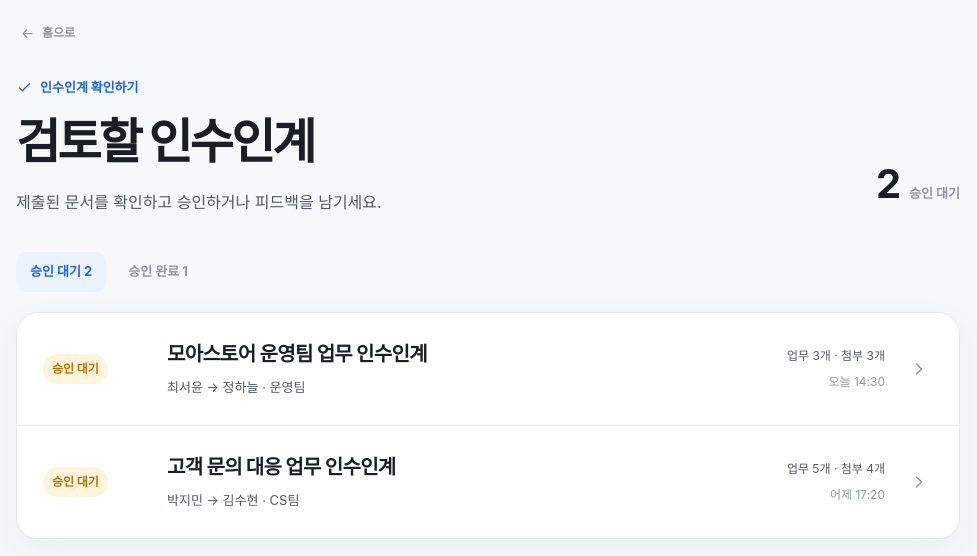
Test: ReviewInboxPage › opens on the pending tab and counts each status from the loaded data
Expected: the heading "검토할 인수인계" is shown, [16,112,314,171]
Expected: the text "제출된 문서를 확인하고 승인하거나 피드백을 남기세요." is shown, [16,190,382,214]
Step 1. Click the button "승인 완료 1" → click(158, 272), box [114,252,202,292]
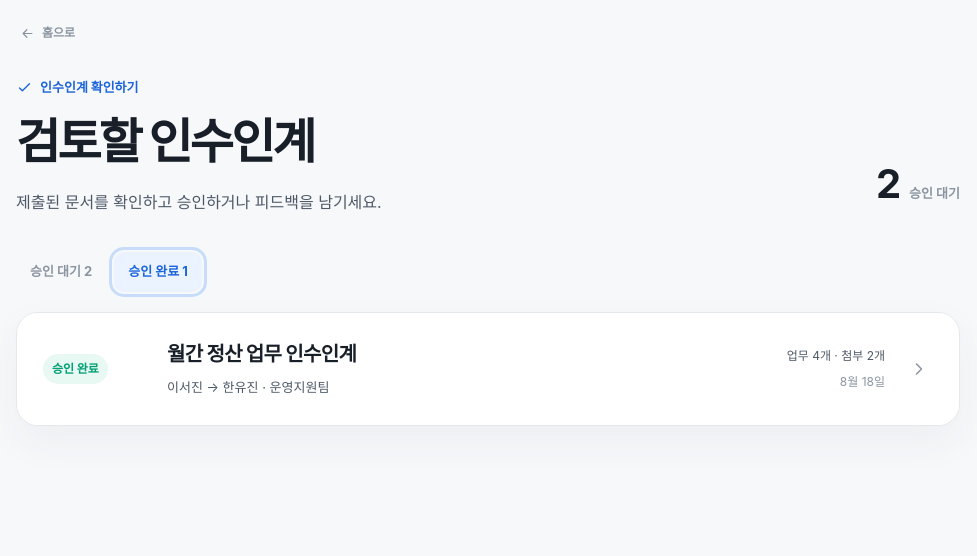
Expected: the text "월간 정산 업무 인수인계" is shown, [167,342,356,366]
